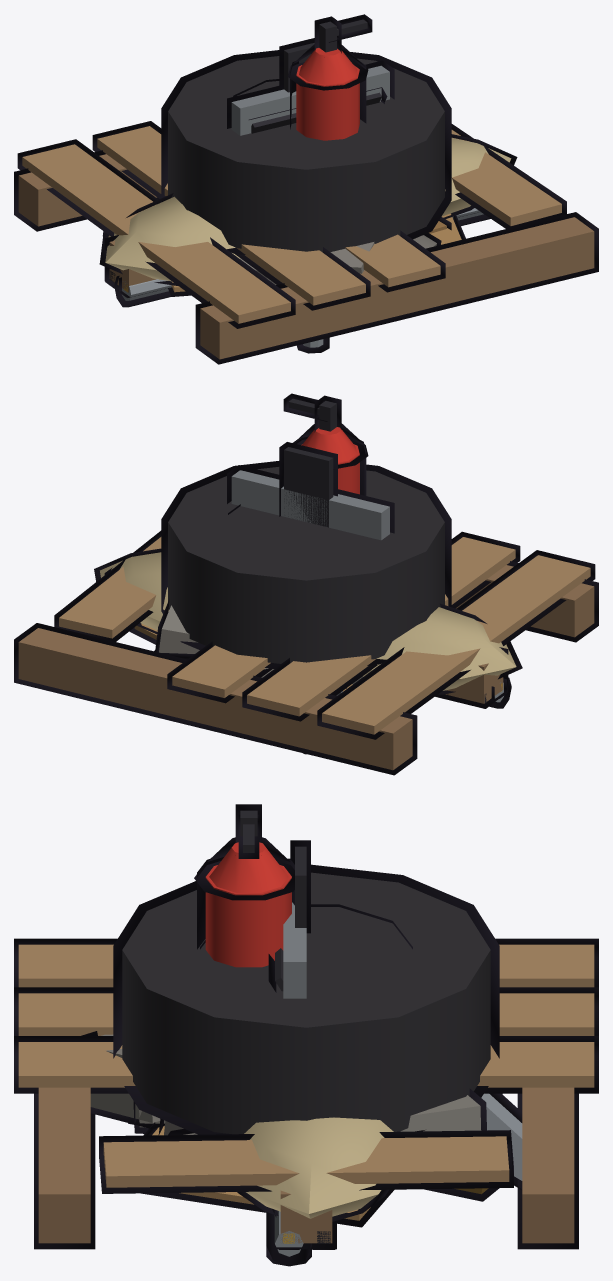
Rendered from fps-dress.glb.
3 views of the same model, one above another, from view 1: azimuth 30°, elevation 25°; view 2: azimuth 150°, elevation 25°; view 3: azimuth 270°, elevation 25° (orthographic). The views are drawn at different scales.
Parts seen in each view (by area): view 1: KIT_DRESS_PalletBroken, KIT_DRESS_TyreOld, KIT_DRESS_Extinguisher, KIT_DRESS_Sandbags, KIT_DRESS_Vent, KIT_DRESS_Conduit, KIT_DRESS_CartonFlat, KIT_DRESS_RubbleA; view 2: KIT_DRESS_PalletBroken, KIT_DRESS_TyreOld, KIT_DRESS_Extinguisher, KIT_DRESS_Sandbags, KIT_DRESS_Vent, KIT_DRESS_RubbleB; view 3: KIT_DRESS_TyreOld, KIT_DRESS_PalletBroken, KIT_DRESS_Extinguisher, KIT_DRESS_Sandbags, KIT_DRESS_Vent, KIT_DRESS_RubbleB, KIT_DRESS_RubbleA, KIT_DRESS_CartonFlat, KIT_DRESS_PipeOffcut, KIT_DRESS_Conduit.
Part boxes in pixels (left/top/right/bottom): KIT_DRESS_PalletBroken: left=14, top=121, right=598, bottom=364; KIT_DRESS_TyreOld: left=161, top=50, right=451, bottom=254; KIT_DRESS_Extinguisher: left=279, top=14, right=372, bottom=140; KIT_DRESS_Sandbags: left=99, top=134, right=517, bottom=285; KIT_DRESS_Vent: left=227, top=60, right=394, bottom=135; KIT_DRESS_Conduit: left=114, top=208, right=490, bottom=307; KIT_DRESS_CartonFlat: left=168, top=212, right=465, bottom=296; KIT_DRESS_RubbleA: left=240, top=242, right=374, bottom=281; KIT_DRESS_PalletBroken: left=14, top=530, right=598, bottom=775; KIT_DRESS_TyreOld: left=161, top=461, right=451, bottom=668; KIT_DRESS_Extinguisher: left=279, top=393, right=368, bottom=527; KIT_DRESS_Sandbags: left=94, top=548, right=522, bottom=694; KIT_DRESS_Vent: left=227, top=465, right=394, bottom=540; KIT_DRESS_RubbleB: left=155, top=599, right=273, bottom=677; KIT_DRESS_TyreOld: left=113, top=864, right=499, bottom=1134; KIT_DRESS_PalletBroken: left=14, top=938, right=598, bottom=1249; KIT_DRESS_Extinguisher: left=194, top=804, right=310, bottom=967; KIT_DRESS_Sandbags: left=237, top=1117, right=393, bottom=1221; KIT_DRESS_Vent: left=268, top=858, right=306, bottom=998; KIT_DRESS_RubbleB: left=400, top=1088, right=486, bottom=1131; KIT_DRESS_RubbleA: left=81, top=1031, right=165, bottom=1133; KIT_DRESS_CartonFlat: left=141, top=1122, right=394, bottom=1227; KIT_DRESS_PipeOffcut: left=272, top=1093, right=522, bottom=1217; KIT_DRESS_Conduit: left=266, top=1211, right=311, bottom=1266.
Bounding box in the file's own units: 1.13 × 0.856 × 1.02.
Materials: 1 (1 with a texture image).
